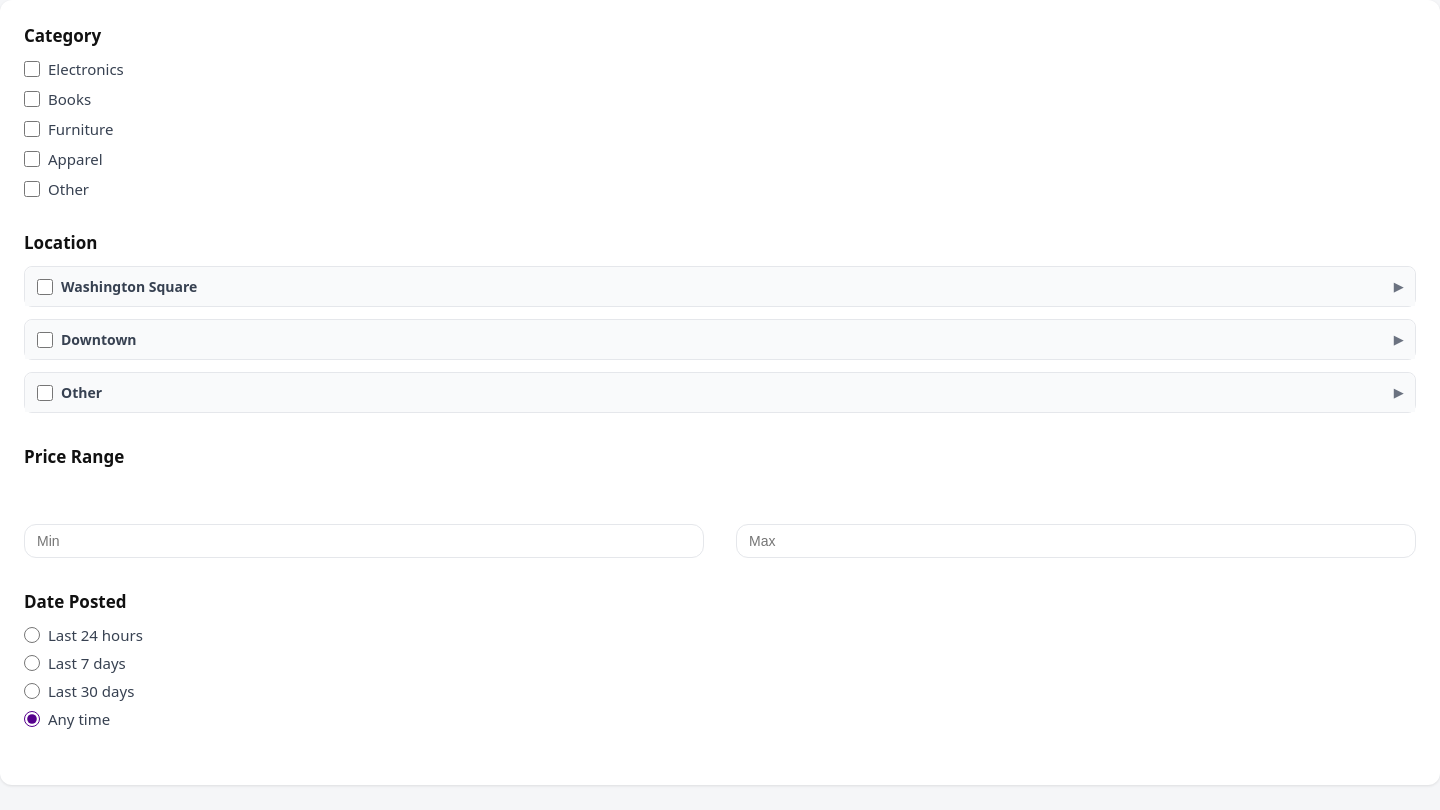
Test: Filters › clears validation errors when values are corrected
// Set invalid value
Type "-10" into the number field labelled "Min price" at (364, 541), box [24,524,704,558]
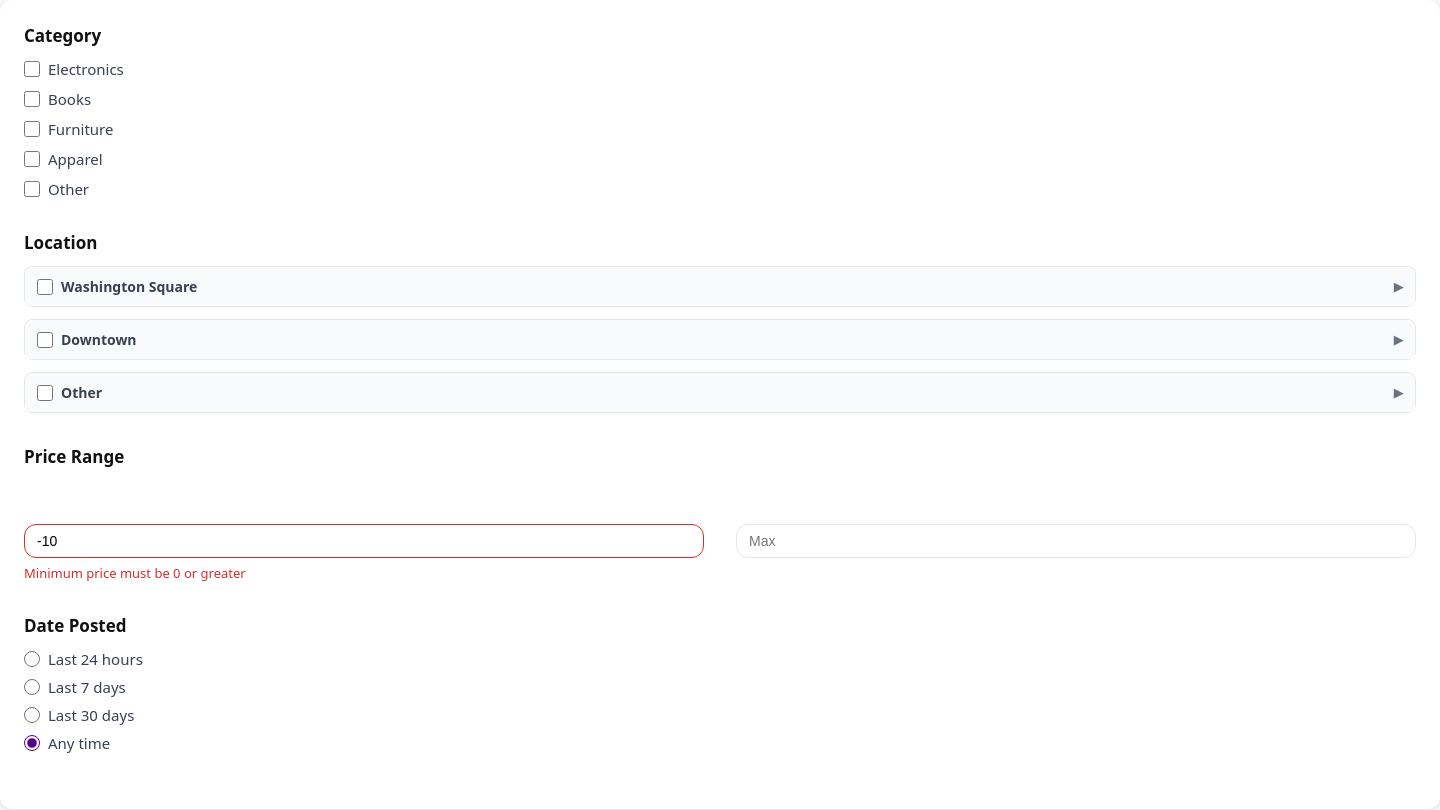
Result: the text "Minimum price must be 0 or greater" is shown at [24,564,246,582]
// Fix the value
Replace the text in the number field labelled "Min price" with "100" at (364, 541), box [24,524,704,558]
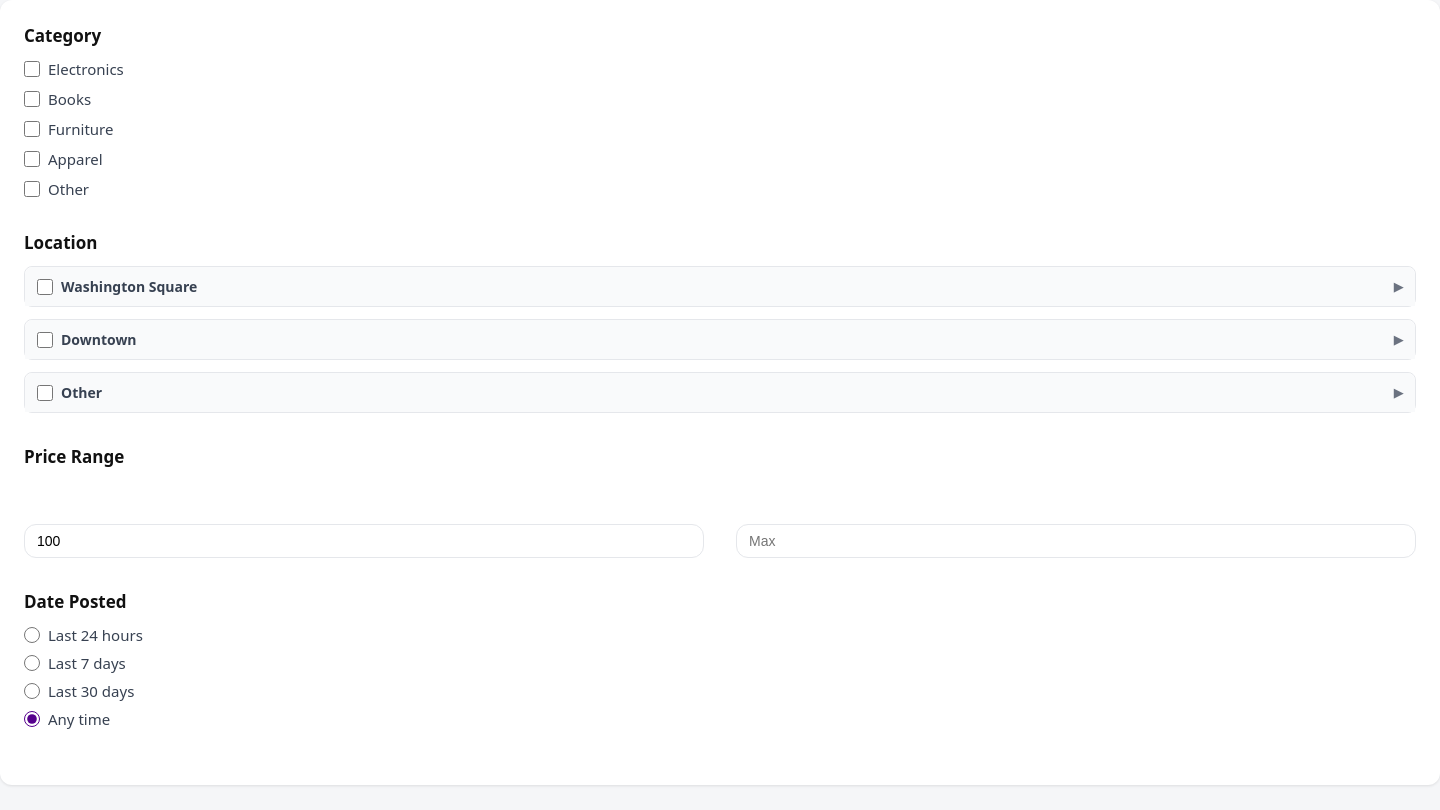
Result: the text "Minimum price must be 0 or greater" is gone
